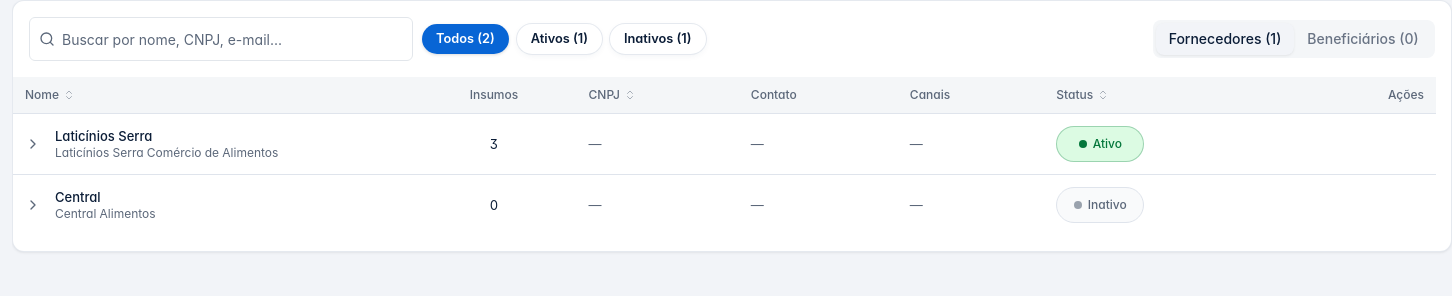
Test: conta fornecedores por status e busca e mostra quantidade de insumos na linha
Check: the button "Todos (2)" is shown, box [421,23,510,55]
Check: the button "Ativos (1)" is shown, box [516,23,603,55]
Step 1. Click the button "Inativos (1)" → (658, 39), box [609,23,706,55]
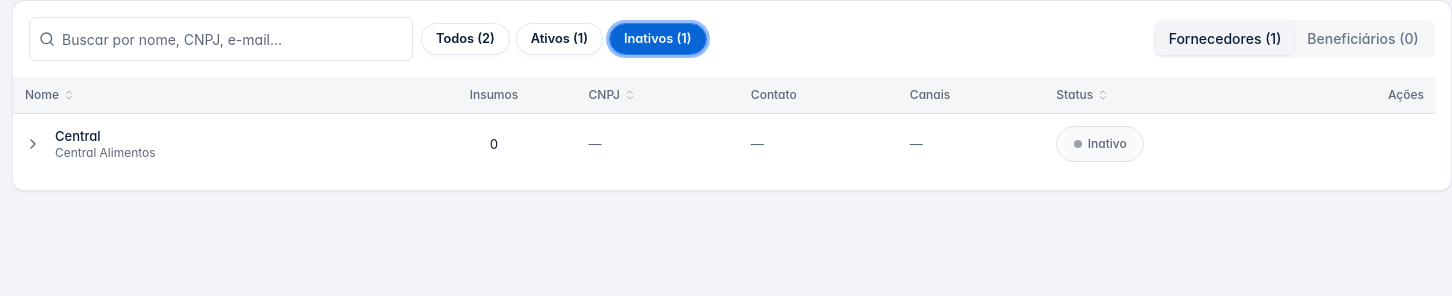
Check: the text "Laticínios Serra" is gone
Step 2. Type "serra" into the field with placeholder "Buscar por nome, CNPJ, e-mail..." → (221, 39), box [29,17,413,61]
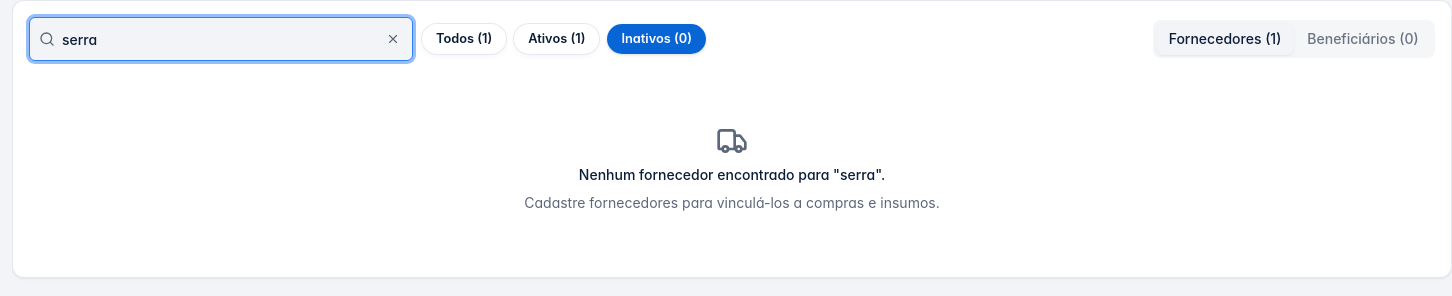
Check: the button "Todos (1)" is shown, box [421,23,507,55]
Check: the button "Inativos (0)" is shown, box [606,23,707,55]
